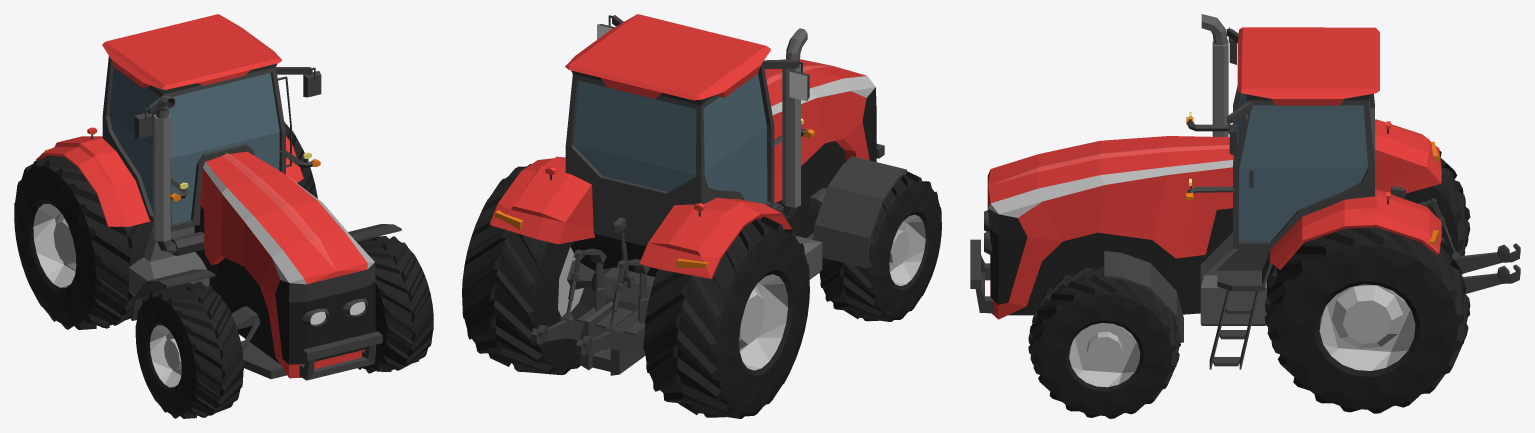
The model's file is tractor_004.glb.
The picture shows the model from 3 angles, left to right: view 1: azimuth 30°, elevation 25°; view 2: azimuth 150°, elevation 25°; view 3: azimuth 270°, elevation 25°; orthographic projection. The views are drawn at different scales.
Visible parts, largest first — view 1: tractor_004; view 2: tractor_004; view 3: tractor_004.
Part boxes in pixels (bbox=[...]): tractor_004: bbox=[14, 14, 433, 418]; tractor_004: bbox=[462, 14, 941, 418]; tractor_004: bbox=[970, 14, 1520, 418].
Size of the model in its own units: 2.6 by 2.86 by 4.64.
1 material, 1 textured.
